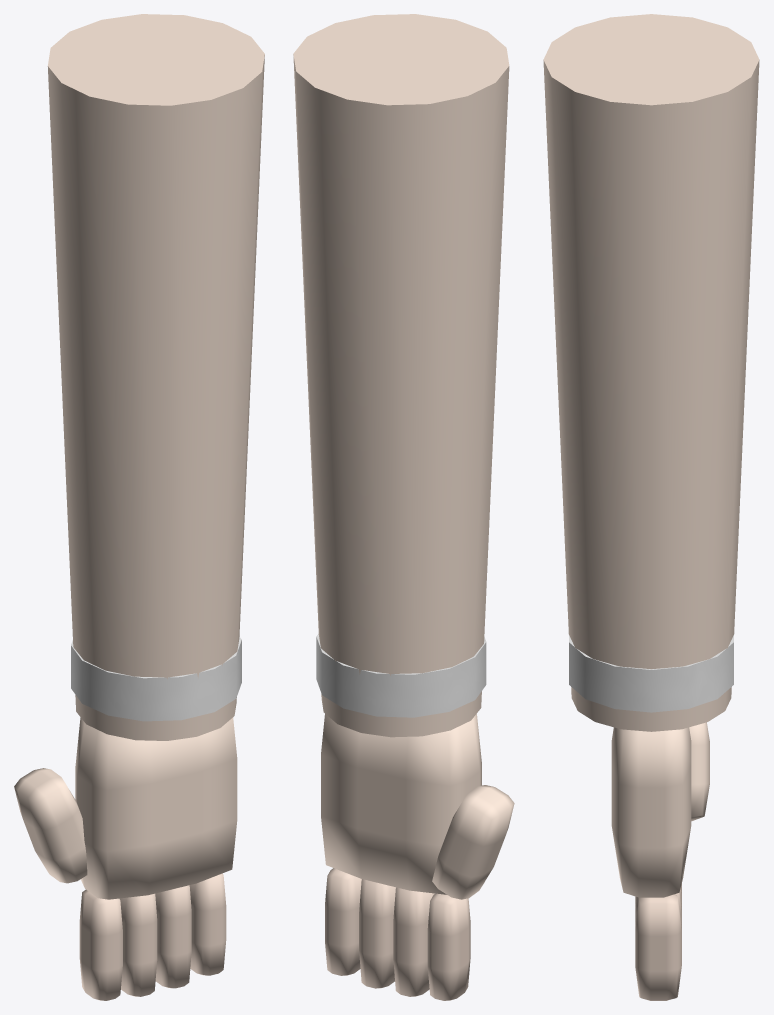
File: person_larm_r.glb
The picture shows the model from 3 angles, left to right: view 1: azimuth 30°, elevation 25°; view 2: azimuth 150°, elevation 25°; view 3: azimuth 270°, elevation 25°; orthographic projection.
Parts seen in each view (by area): view 1: person_larm_r_body; view 2: person_larm_r_body; view 3: person_larm_r_body.
Part boxes in pixels (left/top/right/bottom): person_larm_r_body: left=14, top=14, right=264, bottom=1000; person_larm_r_body: left=293, top=14, right=514, bottom=1000; person_larm_r_body: left=543, top=14, right=759, bottom=1000.
Size of the model in its own units: 0.1039 by 0.4314 by 0.092.
3 materials, 1 textured.
